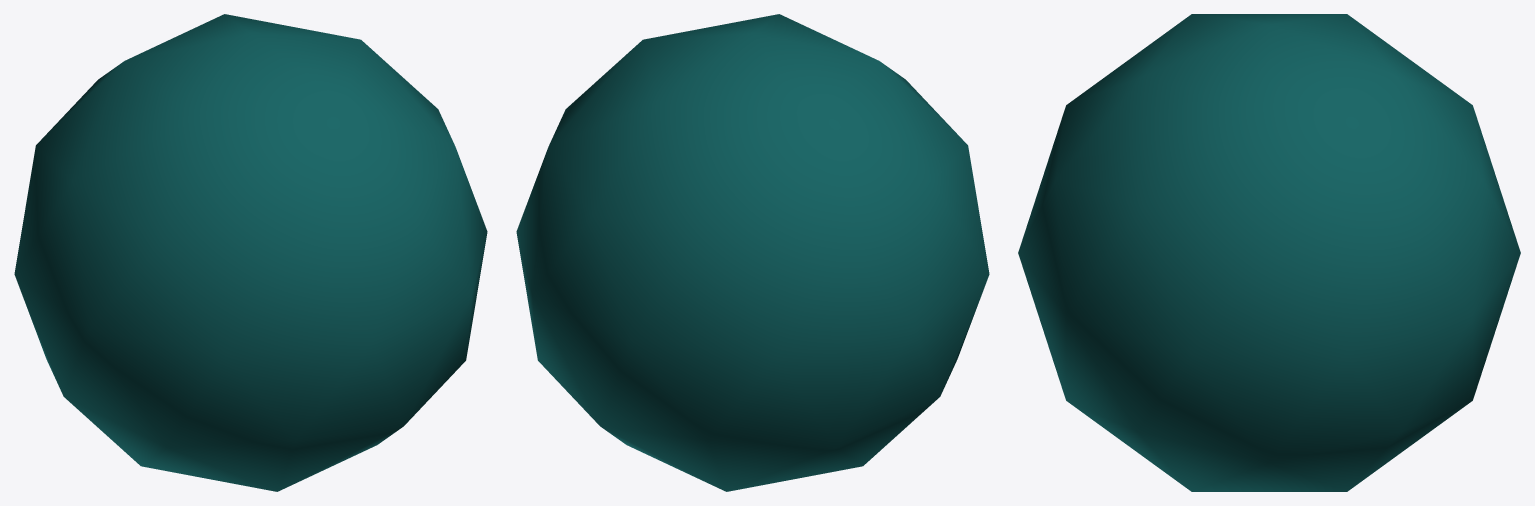
Rendered from boss_kraken_tentA.glb.
The picture shows the model from 3 angles, left to right: view 1: azimuth 30°, elevation 25°; view 2: azimuth 150°, elevation 25°; view 3: azimuth 270°, elevation 25°; orthographic projection. The views are drawn at different scales.
Visible parts, largest first — view 1: Icosphere; view 2: Icosphere; view 3: Icosphere.
Part boxes in pixels (x1,y1,x2,y2): Icosphere: (14,14,487,491); Icosphere: (516,14,989,491); Icosphere: (1018,14,1520,491).
Size of the model in its own units: 0.5706 by 0.6 by 0.6.
